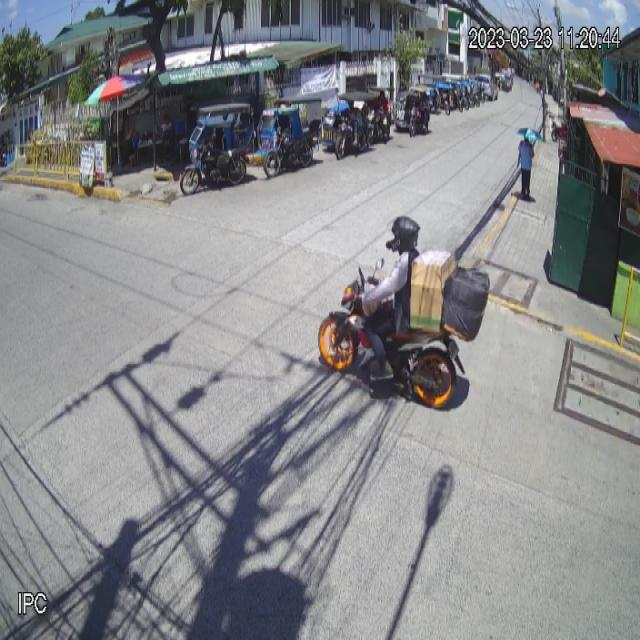Motorcycle: (317, 256, 466, 410)
